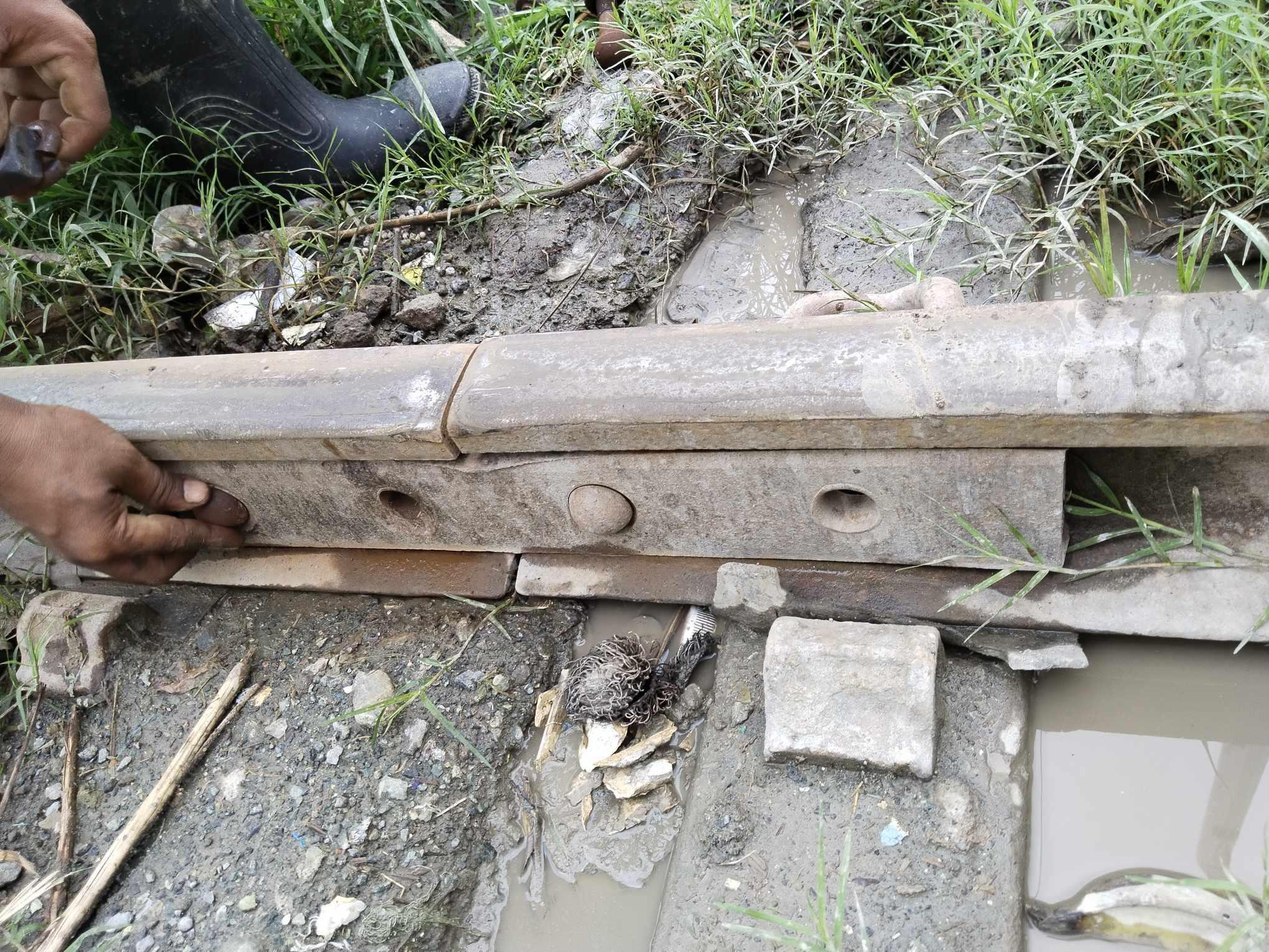railway-gap: (380, 315, 530, 462), (473, 539, 551, 616)
